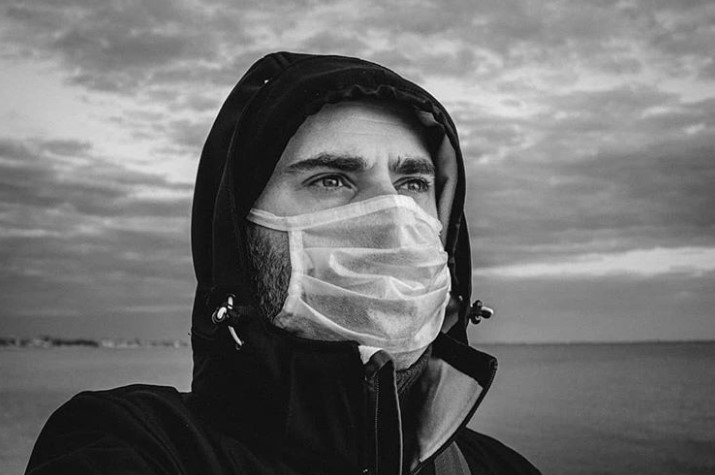face_with_mask: (195, 55, 471, 376)
